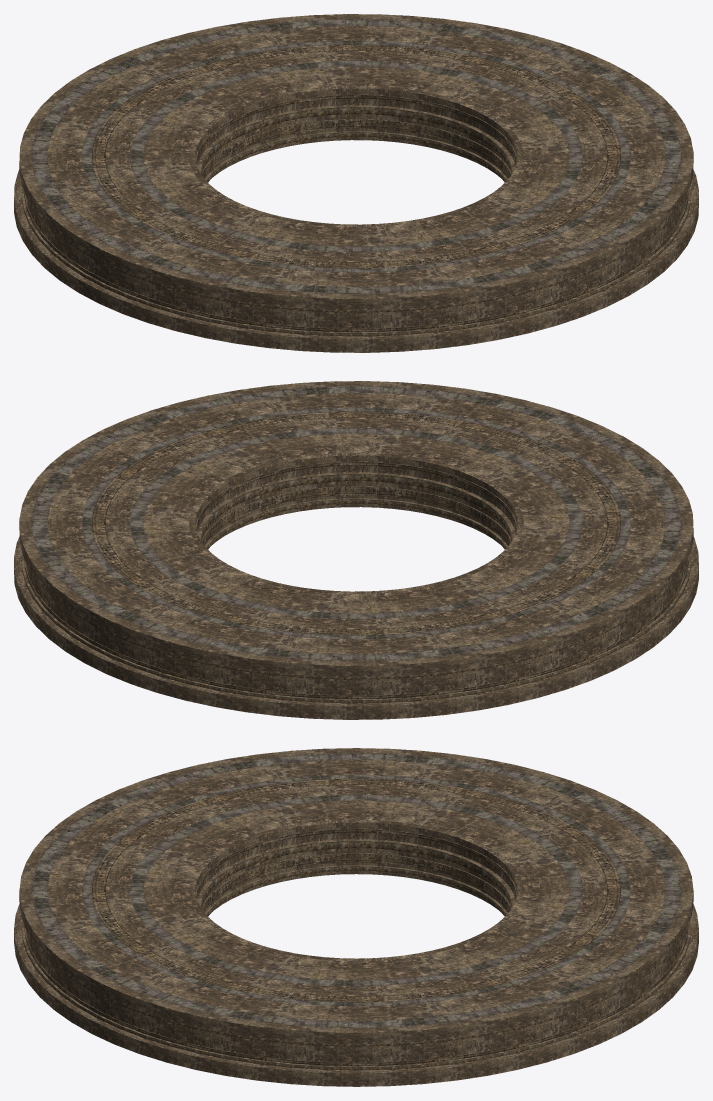
Rendered from materials_5_floor_donut_1.fbx.
3 renders of one model, top to bottom at view 1: azimuth 30°, elevation 25°; view 2: azimuth 150°, elevation 25°; view 3: azimuth 270°, elevation 25°, orthographic.
Visible parts, largest first — view 1: materials_5_floor_donut_1; view 2: materials_5_floor_donut_1; view 3: materials_5_floor_donut_1.
Part boxes in pixels (x1,y1,x2,y2): materials_5_floor_donut_1: [14, 14, 698, 352]; materials_5_floor_donut_1: [14, 381, 698, 719]; materials_5_floor_donut_1: [14, 748, 698, 1086].
Size of the model in its own units: 686 by 57.09 by 686.
